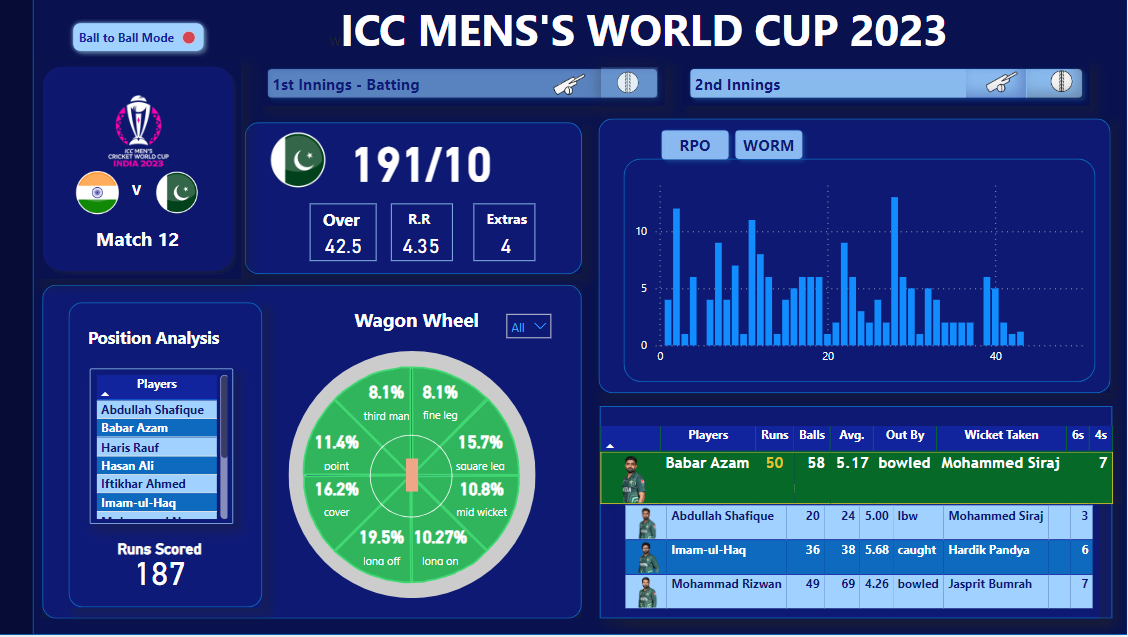

The page's visual inventory and layout, read from the dashboard file:
{"tool":"powerbi","page":{"name":"pakvsind","canvas":[1280,720],"ordinal":2},"visuals":[{"type":"shape","box":[0,0,1280.8,720],"z":1000},{"type":"shape","box":[48.6,50.1,233.4,269.5],"z":1000,"group":"g3"},{"type":"shape","box":[57.9,325.6,607.8,376.3],"z":1500},{"type":"image","box":[41.7,72.9,249,163.8],"z":2000,"group":"g3"},{"type":"shape","box":[685,138.7,577.1,309.6],"z":2000},{"type":"image","box":[84.9,191.1,67.4,60.1],"z":3000,"group":"g3"},{"type":"shape","box":[86.8,345.2,218.3,343.7],"z":3000},{"type":"shape","box":[712.2,183.3,531.7,251.9],"z":4000},{"type":"image","box":[180,191.1,58.8,60.1],"z":4000,"group":"g3"},{"type":"textbox","box":[152.4,201.5,53.6,76.7],"z":5000,"group":"g3"},{"type":"shape","box":[96.2,503.1,199,114.9],"z":5000},{"type":"shape","box":[285.8,142.3,379.9,171.3],"z":6000},{"type":"textbox","box":[359.3,234,75,65],"z":7000},{"type":"group","id":"g1","title":"Group 2","box":[686.3,462,588.7,241.4],"z":9000},{"type":"slicer","fields":{"Values":["1st_inn_bat.Batsman_Runs"]},"box":[570.1,348,70.7,55.2],"z":10000},{"type":"group","id":"g2","title":"Group 1","box":[333.9,400.4,280,280],"z":11000},{"type":"card","fields":{"Values":["1st_inn_gen_stats.concat_score"]},"box":[389.4,126.1,191.9,113.5],"z":12000},{"type":"card","fields":{"Values":["1st_inn_gen_stats.bowler_ball_over"]},"box":[365,261,65.1,41],"z":13000},{"type":"image","box":[302.7,148.3,86.8,73.6],"z":14000},{"type":"textbox","box":[451.3,234,69.3,65],"z":15000},{"type":"card","fields":{"Values":["1st_inn_gen_stats.player_runrate"]},"box":[453.7,261,62.6,41],"z":16000},{"type":"shape","box":[686.3,462,577.5,239.4],"z":16000,"group":"g1"},{"type":"textbox","box":[544,234,69.6,65],"z":17000},{"type":"tableEx","fields":{"Values":["Min(indvspak_players.img_path)","1st_inn_bat.Batsman_Name","1st_inn_gen_stats.player_score_1","1st_inn_gen_stats.player_balls_1","1st_inn_gen_stats.player_runrate_1","1st_inn_gen_stats.howwicket_1","1st_inn_gen_stats.who_wicket_1","1st_inn_gen_stats.no_of_six_bat_1","1st_inn_gen_stats.no_of_4_bat_1"]},"box":[709.4,545,541.8,158.4],"z":17000,"group":"g1"},{"type":"card","fields":{"Values":["1st_inn_gen_stats.total_extra"]},"box":[546,261,68.2,41],"z":18000},{"type":"group","id":"g3","title":"Group 3","box":[41.7,50.1,249,323.2],"z":19000},{"type":"textbox","box":[95,253,134.9,120.3],"z":19001,"group":"g3"},{"type":"shape","box":[335.5,400.7,278.5,278.5],"z":19500,"group":"g2"},{"type":"shape","box":[0,0,48.1,720.1],"z":20000},{"type":"shapeMap","fields":{"Value":["1st_inn_gen_stats.field_percentage_1"],"Category":["1st_inn_bat.field"]},"box":[333.9,400.4,279.5,279.5],"z":20000,"group":"g2"},{"type":"tableEx","fields":{"Values":["Min(indvspak_players.img_path)","1st_inn_bat.Batsman_Name","1st_inn_gen_stats.player_score_1","1st_inn_gen_stats.player_balls_1","1st_inn_gen_stats.player_runrate_1","1st_inn_gen_stats.howwicket_1","1st_inn_gen_stats.who_wicket_1","1st_inn_gen_stats.no_of_six_bat_1","1st_inn_gen_stats.no_of_4_bat_1"]},"box":[686.3,484.7,588.7,88.2],"z":20000,"group":"g1"},{"type":"card","fields":{"Values":["1st_inn_gen_stats.long-on-card"]},"box":[467.5,591.2,77.5,56.1],"z":21000,"group":"g2"},{"type":"slicer","title":"Overs","fields":{"Values":["1st_inn_gen_stats.Over_No"]},"box":[114.3,624,77.2,59.1],"z":21000},{"type":"card","fields":{"Values":["1st_inn_gen_stats.mid-wicket-card"]},"box":[513.5,535.1,77.5,56.1],"z":22000,"group":"g2"},{"type":"slicer","title":"Ball","fields":{"Values":["1st_inn_gen_stats.Ball"]},"box":[197.7,624.3,72.1,58],"z":22000},{"type":"card","fields":{"Values":["1st_inn_gen_stats.square-card"]},"box":[512.4,483.5,77.5,56.1],"z":23000,"group":"g2"},{"type":"multiRowCard","fields":{"Values":["Min(1st_inn_bat.Batsman_Name)","1st_inn_gen_stats.Batsman_Style","1st_inn_gen_stats.Bowler_Name","1st_inn_gen_stats.player_score_1"]},"box":[180.9,506.8,125.4,114.6],"z":23000},{"type":"textbox","box":[109.7,511.4,73.6,44.6],"z":24000},{"type":"card","fields":{"Values":["1st_inn_gen_stats.long-off-card"]},"box":[401.3,591.2,77.5,56.1],"z":24000,"group":"g2"},{"type":"card","fields":{"Values":["1st_inn_gen_stats.cover-card"]},"box":[350.7,535.1,77.5,56.1],"z":25000,"group":"g2"},{"type":"textbox","box":[109.7,536.7,73.6,44.6],"z":25000},{"type":"card","fields":{"Values":["1st_inn_gen_stats.point-card"]},"box":[350.7,483.5,77.5,56.1],"z":26000,"group":"g2"},{"type":"textbox","box":[109.7,563.2,73.6,44.6],"z":26000},{"type":"card","fields":{"Values":["1st_inn_gen_stats.third-man-card"]},"box":[406.9,427.3,77.5,56.1],"z":27000,"group":"g2"},{"type":"textbox","box":[109.7,586.1,73.6,44.6],"z":27000},{"type":"actionButton","box":[747.2,142,93.7,51],"z":28000},{"type":"shape","box":[426.2,495.2,93.3,93.3],"z":28000,"group":"g2"},{"type":"actionButton","box":[829.7,142.7,93.7,50.4],"z":29000},{"type":"card","fields":{"Values":["1st_inn_gen_stats.fine-leg-card"]},"box":[467.5,422.9,77.5,64],"z":29000,"group":"g2"},{"type":"tableEx","fields":{"Values":["Min(indvspak_players.img_path)"]},"box":[118.2,360.6,141.1,156.8],"z":30000},{"type":"shape","box":[467.3,522,14,37.2],"z":30000,"group":"g2"},{"type":"textbox","box":[375.4,0,742.4,77],"z":31000},{"type":"actionButton","box":[302.6,72.8,456.6,50.4],"z":32000},{"type":"actionButton","box":[778.8,72.8,459.4,50.4],"z":33000},{"type":"textbox","box":[126.6,344.9,130.3,38.6],"z":34000},{"type":"textbox","box":[404,344.9,185.7,48.2],"z":35000},{"type":"image","box":[617.7,60,67.2,76],"z":36000},{"type":"image","box":[696.2,70,46,54],"z":37000},{"type":"actionButton","box":[618.7,82,67.2,35],"z":38000},{"type":"actionButton","box":[687.3,80.8,64,34],"z":39000},{"type":"stackedAreaChart","fields":{"Category":["1st_inn_gen_stats.Over_No"]},"box":[730.6,210.1,517.7,223.9],"z":40000},{"type":"areaChart","fields":{"Category":["1st_inn_gen_stats.Ball_Number"],"Y":["Max(1st_inn_gen_stats.Score)"],"Y2":["1st_inn_gen_stats.wickets1"]},"box":[736.9,196.6,481.2,224.3],"z":41000},{"type":"image","box":[1106.3,58.4,67.2,76],"z":42000},{"type":"image","box":[1184.7,68.4,46,54],"z":43000},{"type":"actionButton","box":[1098.6,82.3,67.2,35],"z":44000},{"type":"actionButton","box":[1167.2,81.2,64,34],"z":45000}]}

Visuals, with their boxes in screenshot pixels (x1, y1, x2, y2), scaled from the page's 1280x720 canvas onto the 1128x637 screenshot:
shape: 0/0/1127/636
shape: 43/44/249/283
shape: 51/288/587/621
image: 37/64/256/209
shape: 604/123/1112/397
image: 75/169/134/222
shape: 76/305/269/609
shape: 628/162/1096/385
image: 159/169/210/222
textbox: 134/178/182/246
shape: 85/445/260/547
shape: 252/126/587/277
textbox: 317/207/383/265
"Group 2" group: 605/409/1124/622
slicer - 1st_inn_bat.Batsman_Runs: 502/308/565/357
"Group 1" group: 294/354/541/602
card - 1st_inn_gen_stats.concat_score: 343/112/512/212
card - 1st_inn_gen_stats.bowler_ball_over: 322/231/379/267
image: 267/131/343/196
textbox: 398/207/459/265
card - 1st_inn_gen_stats.player_runrate: 400/231/455/267
shape: 605/409/1114/621
textbox: 479/207/541/265
tableEx - Min(indvspak_players.img_path) x 1st_inn_bat.Batsman_Name: 625/482/1103/622
card - 1st_inn_gen_stats.total_extra: 481/231/541/267
"Group 3" group: 37/44/256/330
textbox: 84/224/203/330
shape: 296/355/541/601
shape: 0/0/42/636
shapeMap - 1st_inn_gen_stats.field_percentage_1 x 1st_inn_bat.field: 294/354/541/602
tableEx - Min(indvspak_players.img_path) x 1st_inn_bat.Batsman_Name: 605/429/1124/507
card - 1st_inn_gen_stats.long-on-card: 412/523/480/573
"Overs" slicer: 101/552/169/604
card - 1st_inn_gen_stats.mid-wicket-card: 453/473/521/523
"Ball" slicer: 174/552/238/604
card - 1st_inn_gen_stats.square-card: 452/428/520/477
multiRowCard - Min(1st_inn_bat.Batsman_Name) x 1st_inn_gen_stats.Batsman_Style: 159/448/270/550
textbox: 97/452/162/492
card - 1st_inn_gen_stats.long-off-card: 354/523/422/573
card - 1st_inn_gen_stats.cover-card: 309/473/377/523
textbox: 97/475/162/514
card - 1st_inn_gen_stats.point-card: 309/428/377/477
textbox: 97/498/162/538
card - 1st_inn_gen_stats.third-man-card: 359/378/427/428
textbox: 97/519/162/558
actionButton: 658/126/741/171
shape: 376/438/458/521
actionButton: 731/126/814/171
card - 1st_inn_gen_stats.fine-leg-card: 412/374/480/431
tableEx - Min(indvspak_players.img_path): 104/319/229/458
shape: 412/462/424/495
textbox: 331/0/985/68
actionButton: 267/64/669/109
actionButton: 686/64/1091/109
textbox: 112/305/226/339
textbox: 356/305/520/348
image: 544/53/604/120
image: 614/62/654/110
actionButton: 545/73/604/104
actionButton: 606/71/662/102
stackedAreaChart - 1st_inn_gen_stats.Over_No: 644/186/1100/384
areaChart - 1st_inn_gen_stats.Ball_Number x Max(1st_inn_gen_stats.Score): 649/174/1073/372
image: 975/52/1034/119
image: 1044/61/1085/108
actionButton: 968/73/1027/104
actionButton: 1029/72/1085/102
